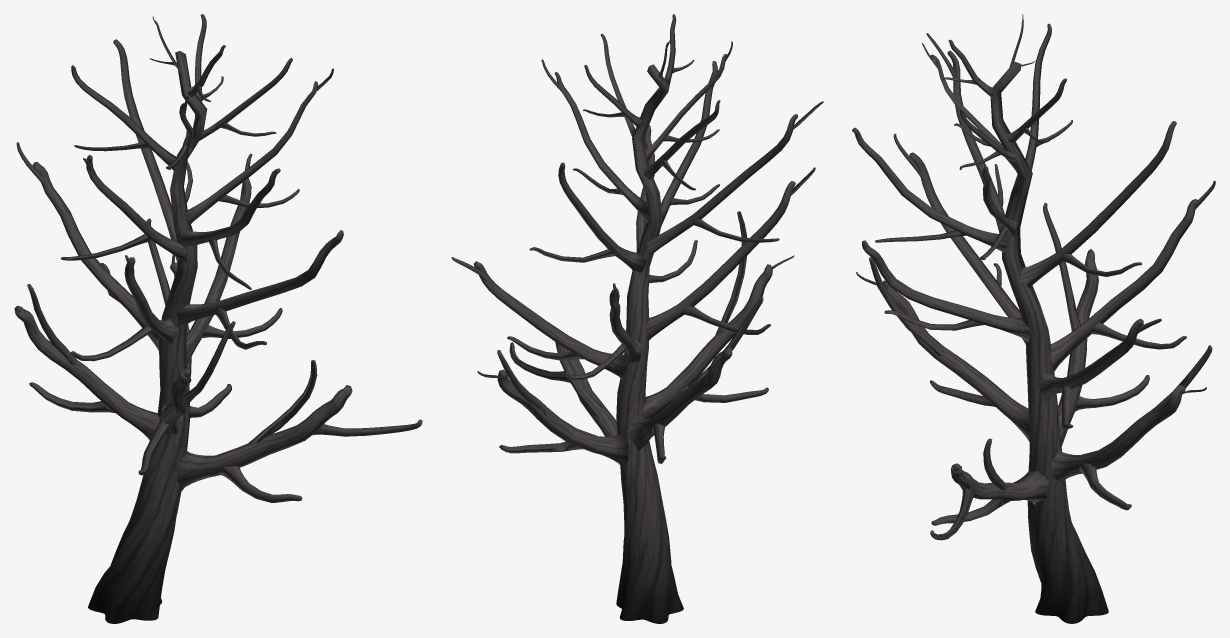
Rendered from DeadTree_2.glb.
The picture shows the model from 3 angles, left to right: view 1: azimuth 30°, elevation 25°; view 2: azimuth 150°, elevation 25°; view 3: azimuth 270°, elevation 25°; orthographic projection. The views are drawn at different scales.
Parts seen in each view (by area): view 1: DeadTree_2; view 2: DeadTree_2; view 3: DeadTree_2.
Boxes of the visible parts, x1=… form: DeadTree_2: x1=14, y1=14, x2=422, y2=623; DeadTree_2: x1=451, y1=14, x2=823, y2=623; DeadTree_2: x1=852, y1=14, x2=1215, y2=623.
Size of the model in its own units: 6.73 by 11.49 by 6.38.
Materials: 1 (1 with a texture image).
